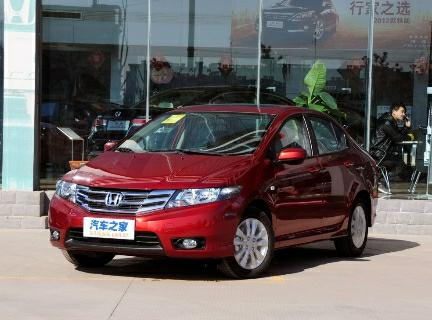car: (34, 96, 391, 283)
